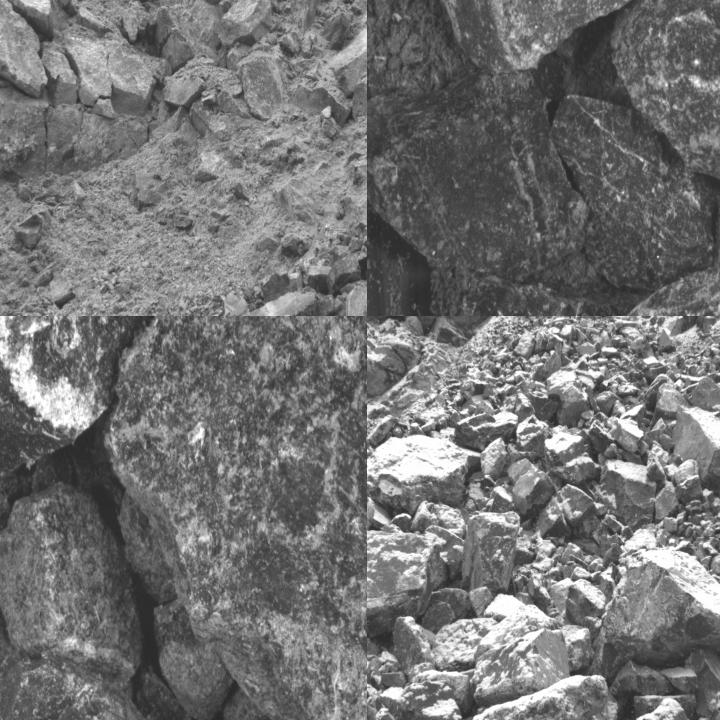stone: (106, 316, 366, 719), (367, 76, 586, 280), (555, 96, 715, 297), (0, 486, 141, 690), (0, 316, 164, 475), (611, 0, 719, 237), (399, 0, 668, 77), (597, 546, 719, 675), (367, 525, 441, 655), (154, 600, 231, 719), (470, 629, 570, 707), (367, 433, 469, 509), (463, 674, 635, 719), (120, 491, 176, 599), (135, 658, 225, 719), (106, 38, 172, 116), (0, 0, 49, 97), (598, 458, 659, 531), (461, 513, 518, 591), (673, 407, 719, 494), (177, 287, 317, 315), (223, 689, 352, 719), (536, 485, 604, 538), (432, 617, 499, 670), (237, 51, 286, 119), (376, 681, 462, 719), (217, 0, 275, 49), (4, 0, 69, 42), (508, 458, 554, 517), (544, 429, 594, 483), (391, 616, 436, 674), (611, 659, 672, 701), (292, 82, 350, 126), (456, 410, 519, 450), (689, 649, 719, 719), (565, 577, 609, 622), (557, 621, 595, 669), (326, 252, 359, 299), (653, 382, 688, 426), (516, 415, 551, 457), (14, 211, 51, 249), (675, 459, 701, 505), (691, 379, 719, 419), (654, 482, 680, 522), (0, 609, 12, 672), (344, 283, 366, 315), (92, 98, 118, 118), (320, 106, 332, 121)
